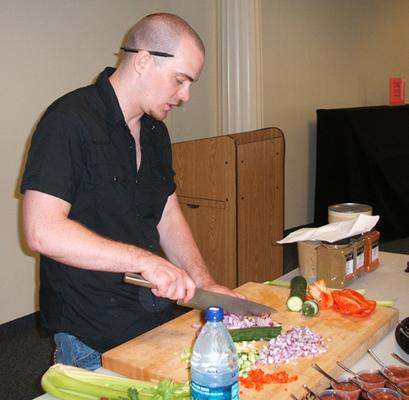person: (19, 11, 246, 373)
